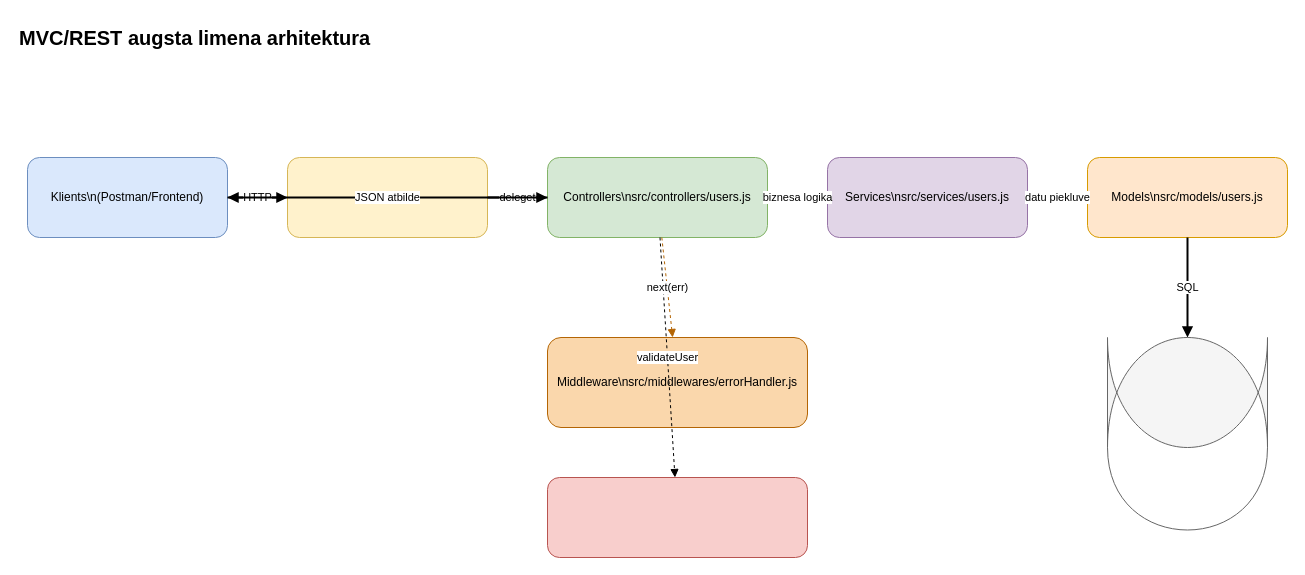
This 1305x575 diagram has some shape labels left out. The centre of each missing label's shape, as x and y in pixels:
"DB Layer\ndb/index.js\nMySQL" goes at (x=1187, y=392).
"Routes\nsrc/routes/users.js" goes at (x=387, y=197).
"Validation\nsrc/validators/users.js" goes at (x=677, y=517).
